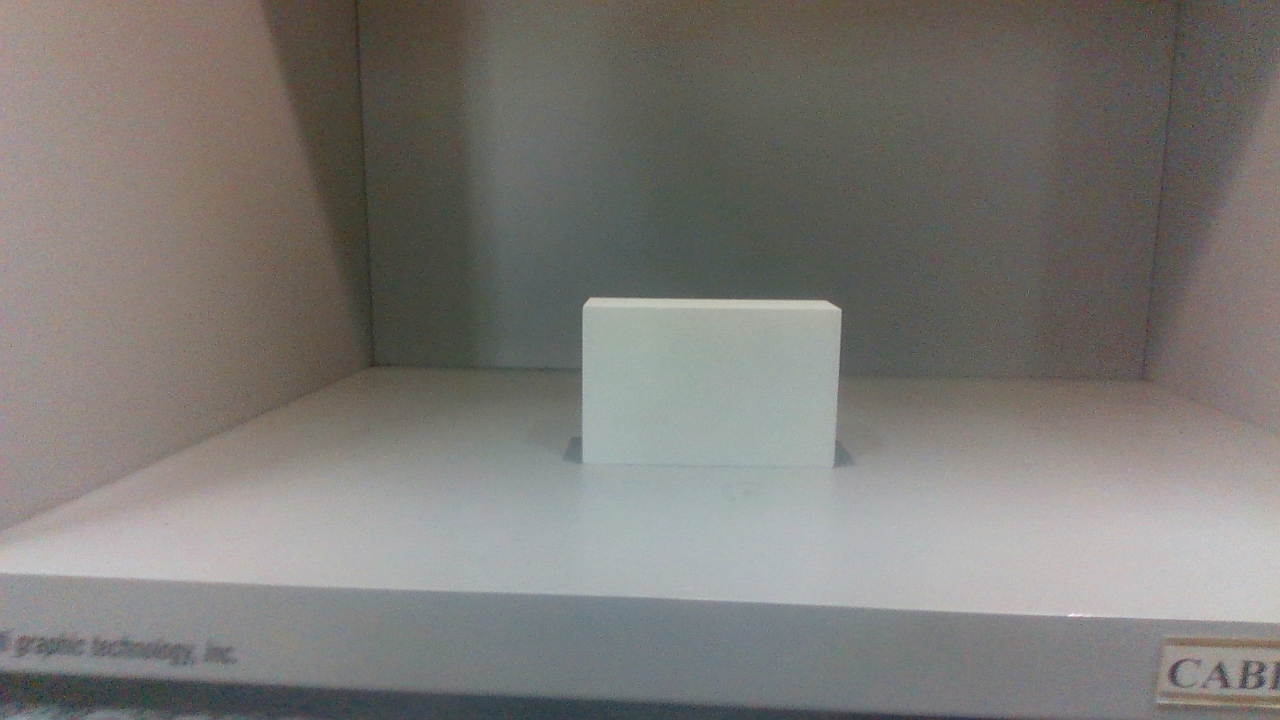Retangulo: (580, 297, 841, 471)
